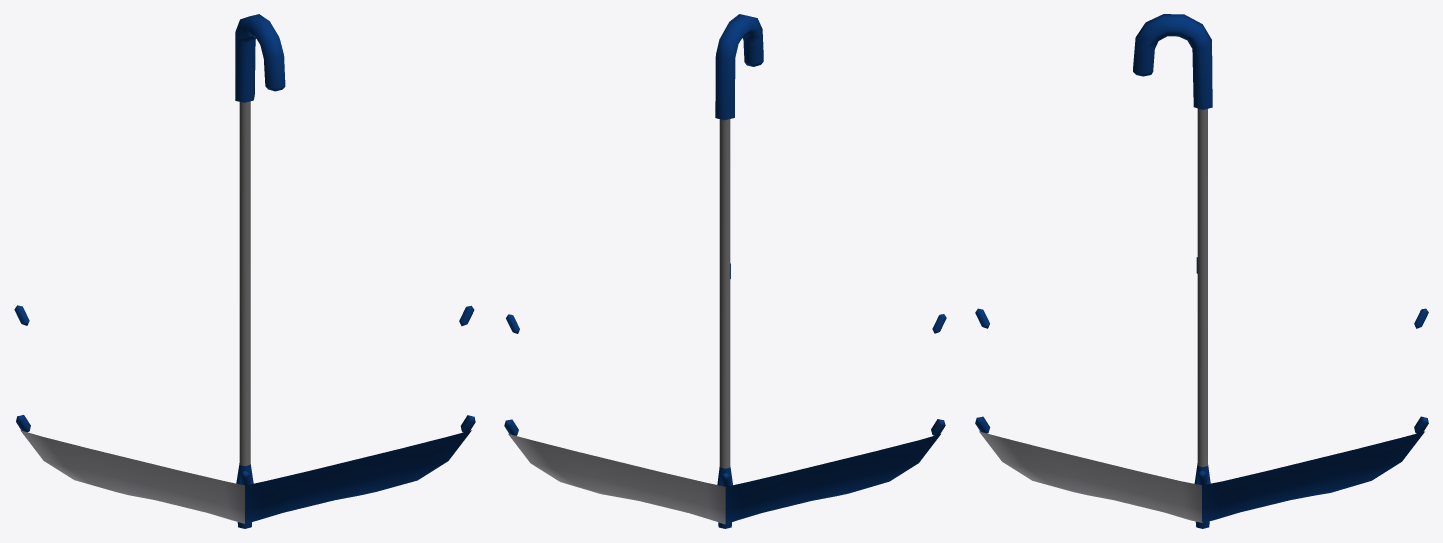
File: UmbrellaBeach0.glb
The picture shows the model from 3 angles, left to right: view 1: azimuth 30°, elevation 25°; view 2: azimuth 150°, elevation 25°; view 3: azimuth 270°, elevation 25°; orthographic projection. The views are drawn at different scales.
Parts seen in each view (by area): view 1: Pole__mUmbrella; view 2: Pole__mUmbrella; view 3: Pole__mUmbrella.
Boxes of the visible parts, x1,y1,x2,y2 form: Pole__mUmbrella: [14, 14, 475, 528]; Pole__mUmbrella: [504, 14, 946, 528]; Pole__mUmbrella: [975, 14, 1428, 528].
Size of the model in its own units: 15.62 by 16.93 by 13.61.
1 material, 1 textured.
